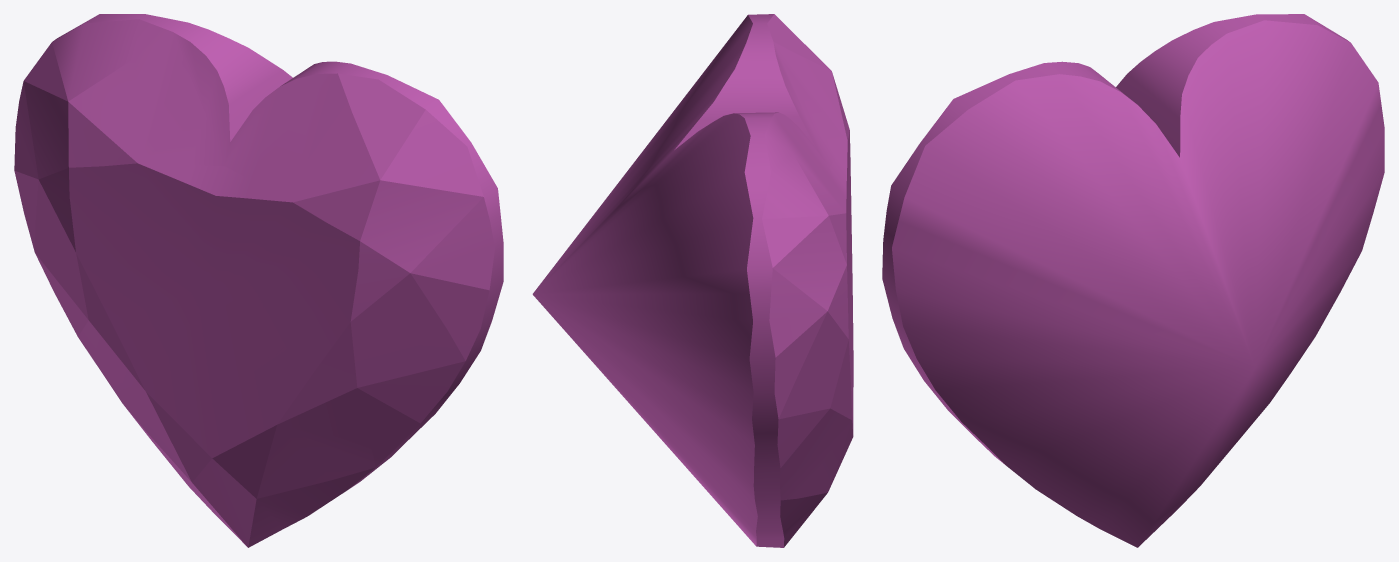
File: BL4_8shapes_heart_Classic_Stone.001 2.glb
3 renders of one model, left to right at view 1: azimuth 30°, elevation 25°; view 2: azimuth 150°, elevation 25°; view 3: azimuth 270°, elevation 25°, orthographic. The views are drawn at different scales.
Parts seen in each view (by area): view 1: BL4_8shapes_heart_Classic_Stone.001; view 2: BL4_8shapes_heart_Classic_Stone.001; view 3: BL4_8shapes_heart_Classic_Stone.001.
Part boxes in pixels (box(x1,y1,x2,y2)): BL4_8shapes_heart_Classic_Stone.001: box(14, 14, 503, 547); BL4_8shapes_heart_Classic_Stone.001: box(532, 14, 853, 547); BL4_8shapes_heart_Classic_Stone.001: box(882, 14, 1384, 547).
Size of the model in its own units: 0.32 by 0.4594 by 0.4175.
